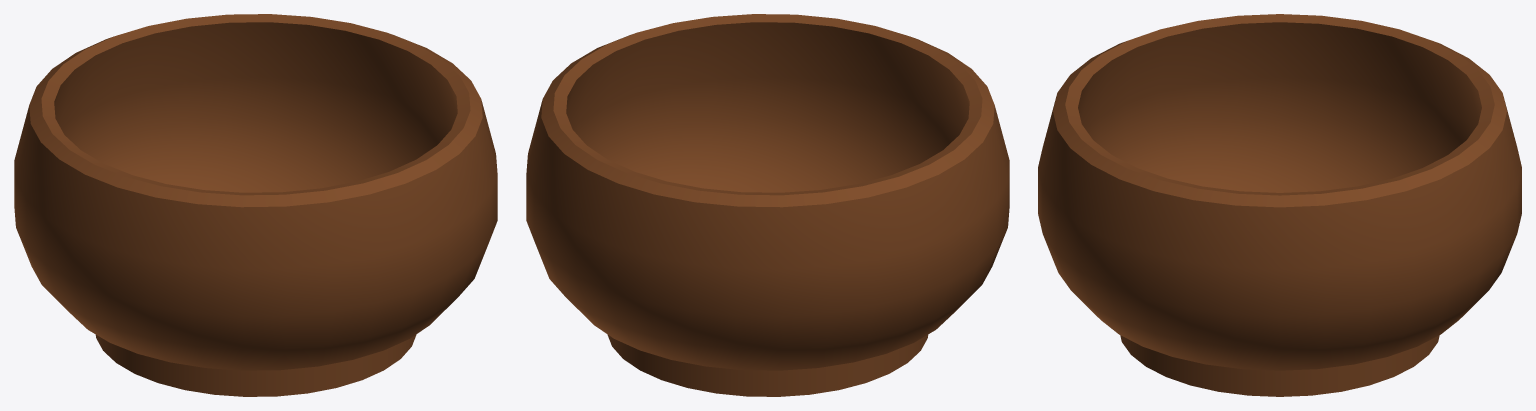
Rendered from TazonArroz.fbx.
The picture shows the model from 3 angles, left to right: view 1: azimuth 30°, elevation 25°; view 2: azimuth 150°, elevation 25°; view 3: azimuth 270°, elevation 25°; orthographic projection.
Parts seen in each view (by area): view 1: Cylinder.001; view 2: Cylinder.001; view 3: Cylinder.001.
Boxes of the visible parts, x1,y1,x2,y2 form: Cylinder.001: (14,14,497,396); Cylinder.001: (526,14,1009,396); Cylinder.001: (1038,14,1521,396).
Size of the model in its own units: 104 by 53.22 by 104.
